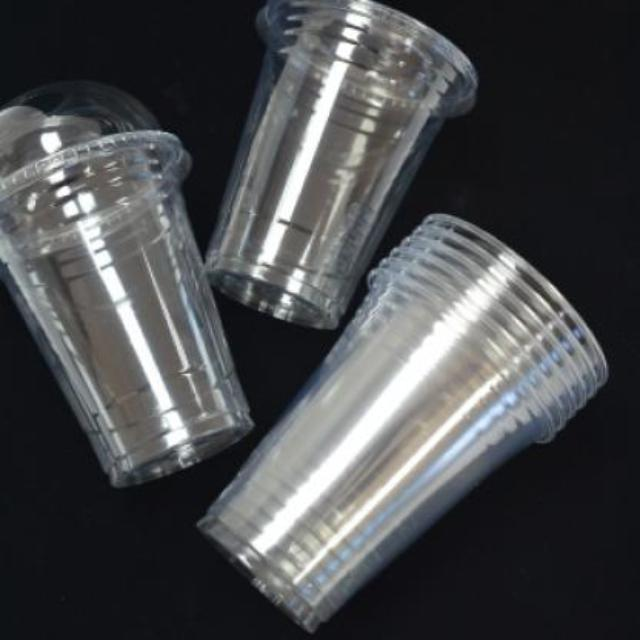plastic_cup: (163, 175, 631, 640), (205, 0, 481, 336), (1, 132, 256, 494)
plastic_cup_lid: (0, 68, 194, 242)
